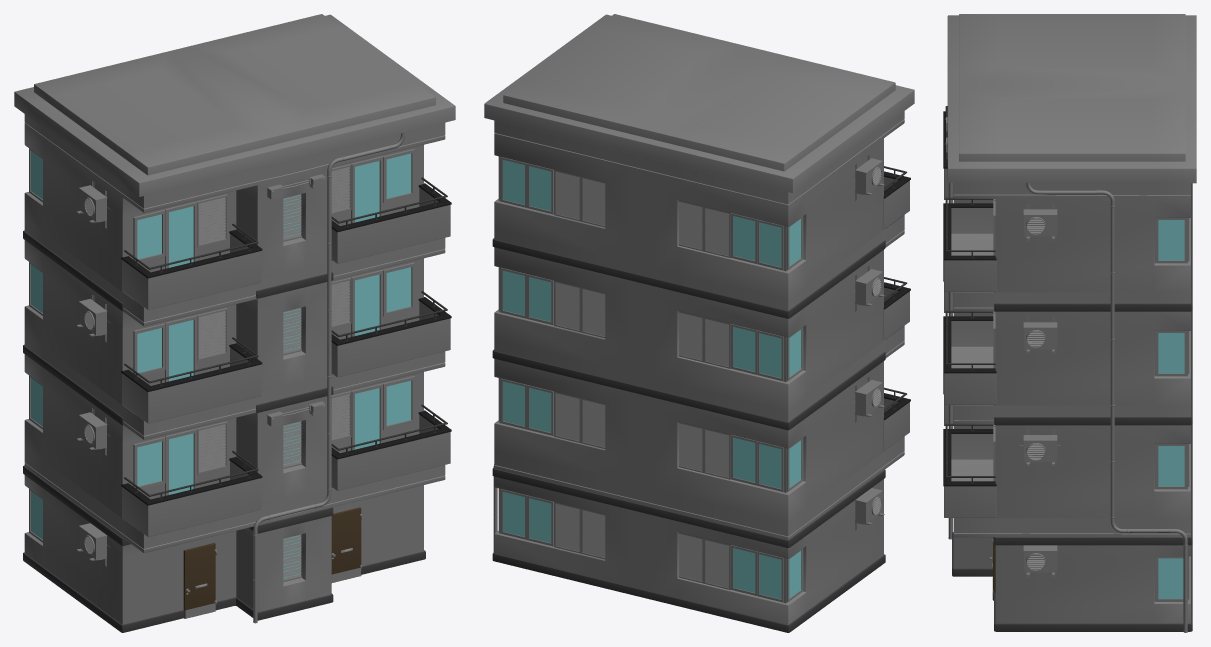
The model's file is SM_apartment_building_03.fbx.
3 renders of one model, left to right at view 1: azimuth 30°, elevation 25°; view 2: azimuth 150°, elevation 25°; view 3: azimuth 270°, elevation 25°, orthographic. The views are drawn at different scales.
Visible parts, largest first — view 1: Box743; view 2: Box743; view 3: Box743.
Boxes of the visible parts, bbox=[...] form: Box743: bbox=[14, 14, 455, 632]; Box743: bbox=[484, 14, 914, 632]; Box743: bbox=[943, 14, 1196, 632].
Size of the model in its own units: 479 by 655 by 317.
